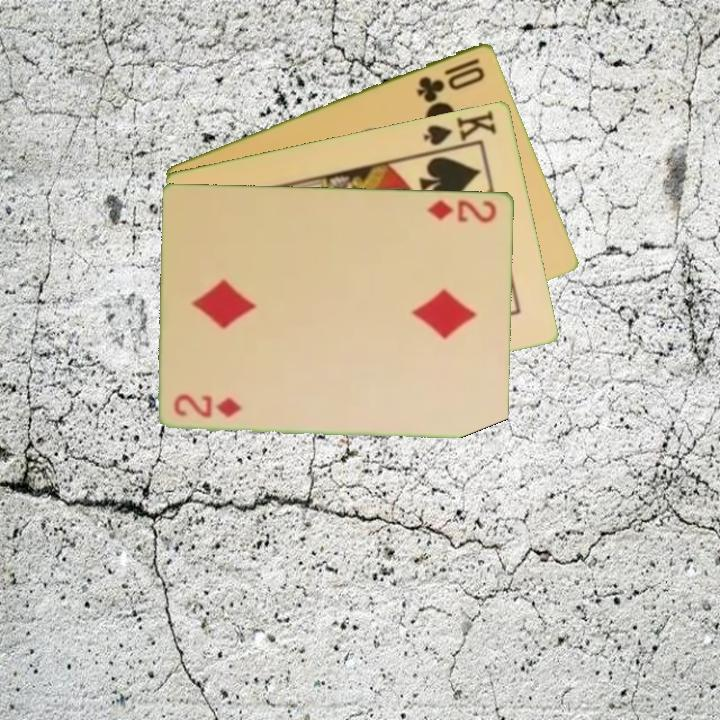10c: (413, 54, 488, 104)
2d: (424, 195, 500, 225), (171, 392, 244, 420)
Ks: (420, 106, 500, 148)
